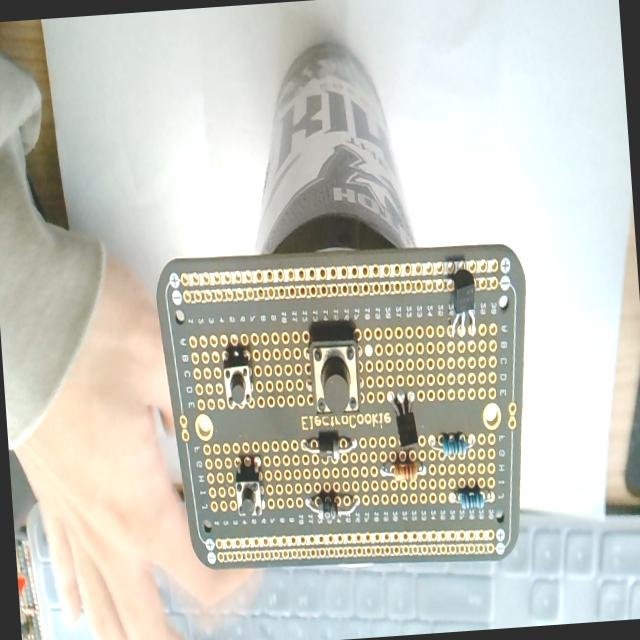diode: (304, 489, 359, 522), (302, 432, 357, 463)
resistor: (378, 455, 424, 483), (440, 432, 468, 460), (458, 486, 486, 512)
switch: (304, 331, 364, 422), (232, 455, 266, 518), (221, 351, 254, 411)
transistor: (444, 266, 482, 342), (386, 388, 420, 451)
